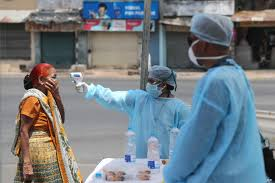mask: (184, 14, 232, 68), (144, 64, 179, 97), (28, 63, 60, 94)
